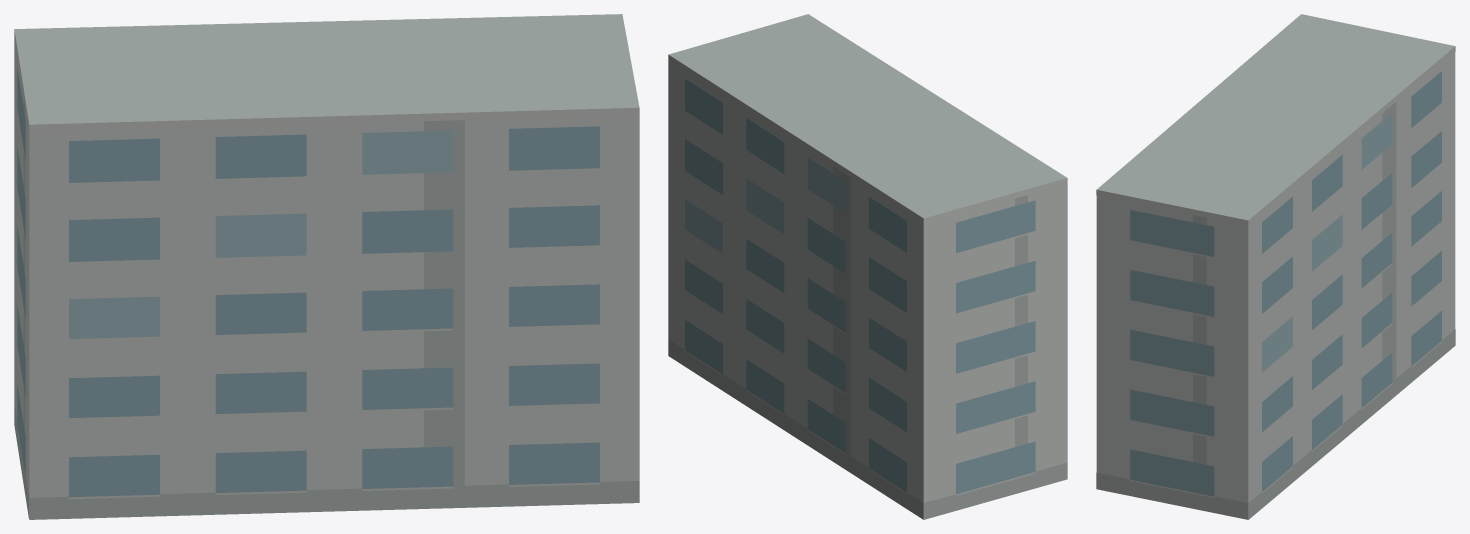
The model's file is survey-upis-32730421.glb.
The picture shows the model from 3 angles, left to right: view 1: azimuth 30°, elevation 25°; view 2: azimuth 150°, elevation 25°; view 3: azimuth 270°, elevation 25°; orthographic projection. The views are drawn at different scales.
Parts seen in each view (by area): view 1: survey-upis-32730421.tmp; view 2: survey-upis-32730421.tmp; view 3: survey-upis-32730421.tmp.
Part boxes in pixels (left/top/right/bottom): survey-upis-32730421.tmp: left=14, top=14, right=639, bottom=519; survey-upis-32730421.tmp: left=668, top=14, right=1067, bottom=519; survey-upis-32730421.tmp: left=1096, top=14, right=1455, bottom=519.
Bounding box in the file's own units: 18.93 × 12.8 × 13.92.
